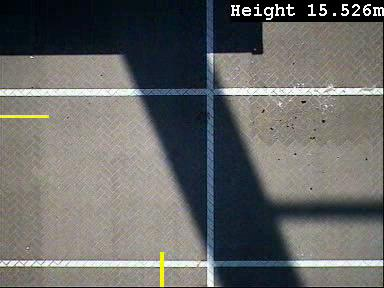groundmarker_2: (156, 22, 236, 73)
